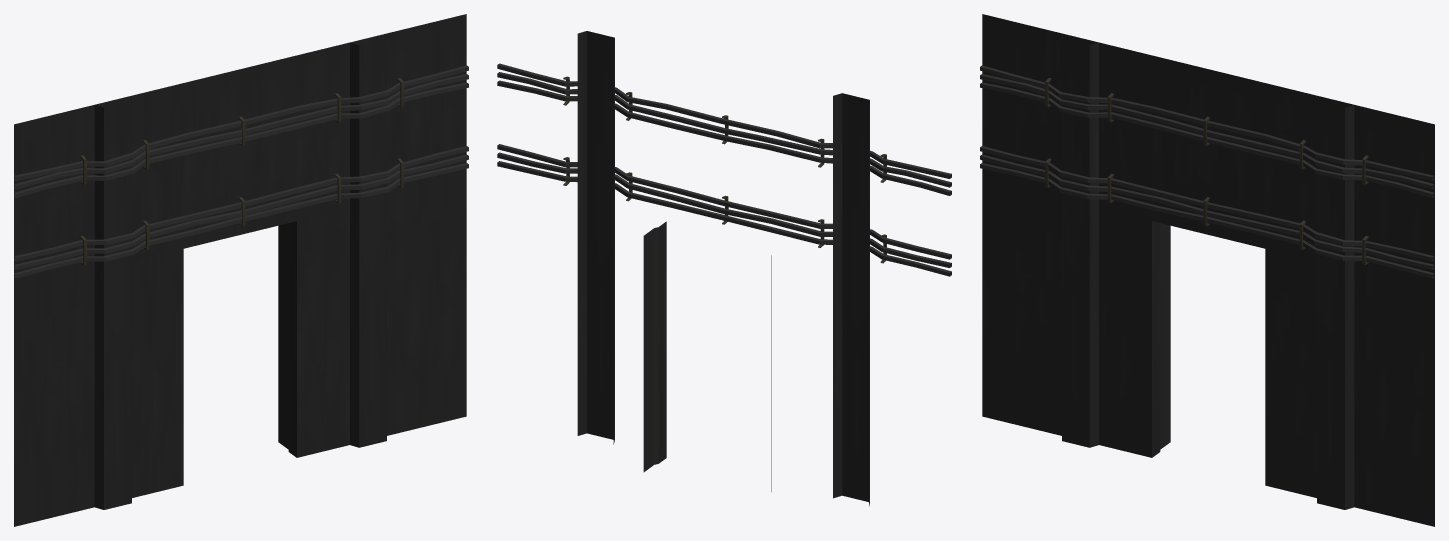
Rendered from SW_ENV_RailTunnelWall_B_03a_05m_FF.fbx.
The picture shows the model from 3 angles, left to right: view 1: azimuth 30°, elevation 25°; view 2: azimuth 150°, elevation 25°; view 3: azimuth 330°, elevation 25°; orthographic projection.
Parts seen in each view (by area): view 1: SW_ENV_RailTunnelWall_B_03a_05m_FF; view 2: SW_ENV_RailTunnelWall_B_03a_05m_FF; view 3: SW_ENV_RailTunnelWall_B_03a_05m_FF.
Boxes of the visible parts, x1=… form: SW_ENV_RailTunnelWall_B_03a_05m_FF: x1=14, y1=14, x2=468, y2=526; SW_ENV_RailTunnelWall_B_03a_05m_FF: x1=497, y1=31, x2=951, y2=506; SW_ENV_RailTunnelWall_B_03a_05m_FF: x1=980, y1=14, x2=1434, y2=526.
Size of the model in its own units: 500 by 425 by 54.88.
